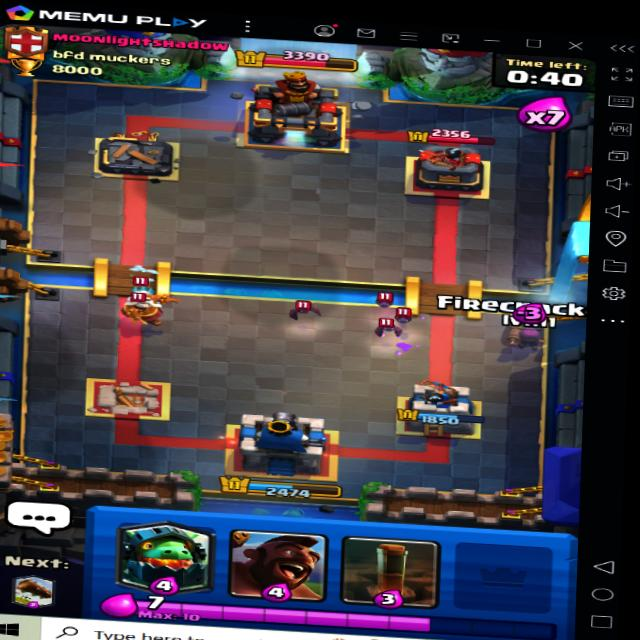Bat: (367, 318, 411, 340), (365, 290, 407, 313), (287, 294, 322, 317), (387, 305, 419, 327)
Icespirit: (123, 283, 169, 301)
Monk: (111, 289, 186, 333)
